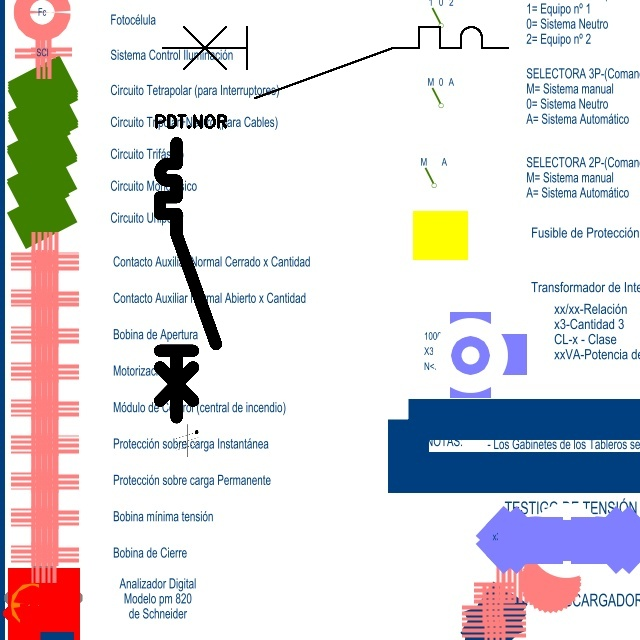interruptor_termomagnetico: (154, 18, 517, 107), (153, 136, 223, 425)
